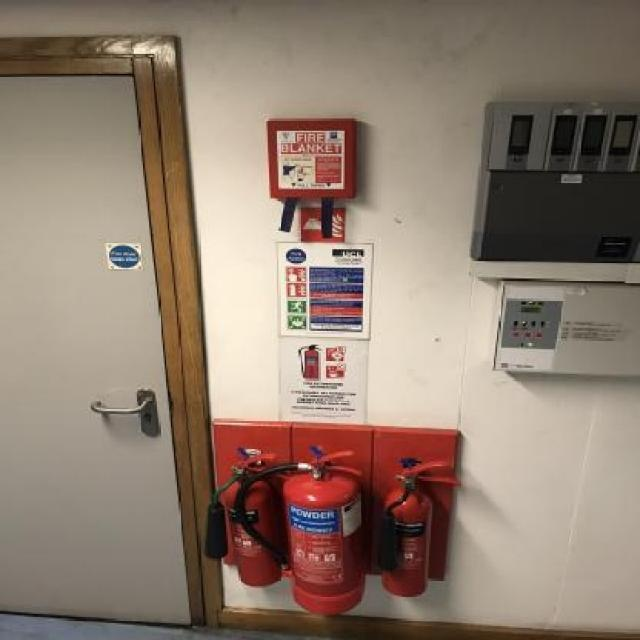fire extinguisher: (290, 453, 362, 615), (220, 457, 285, 581), (385, 468, 439, 597)
